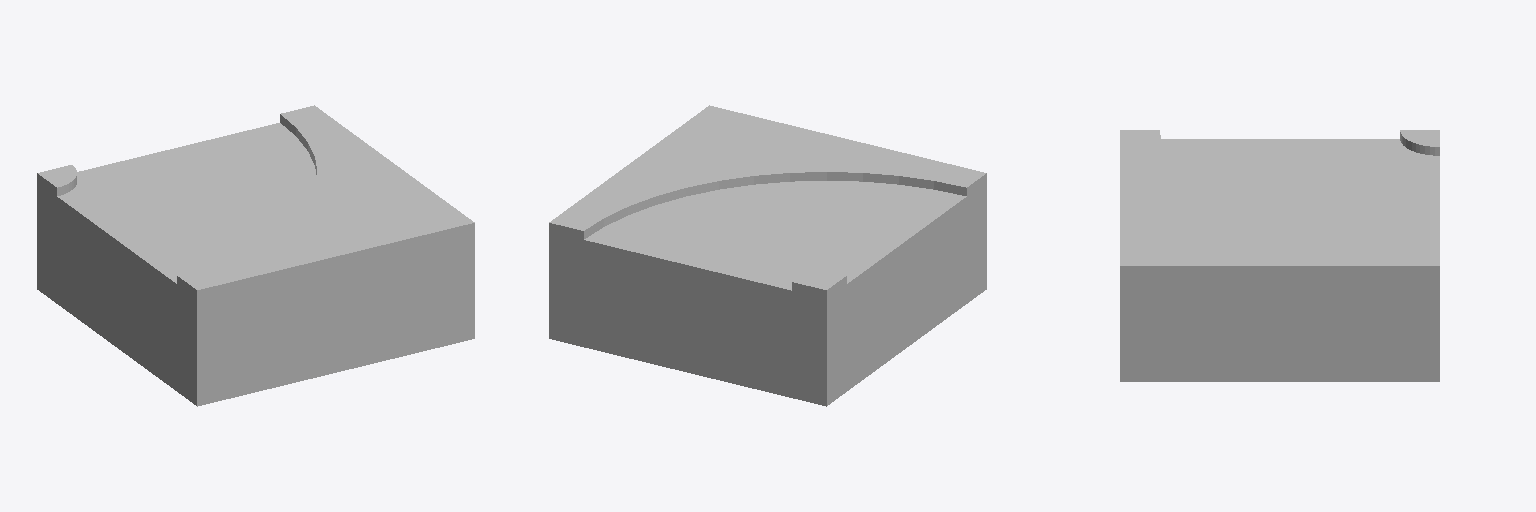
File: tile_094.obj
The picture shows the model from 3 angles: view 1: azimuth 30°, elevation 25°; view 2: azimuth 150°, elevation 25°; view 3: azimuth 270°, elevation 25°; orthographic projection.
Parts seen in each view (by area): view 1: tile_094; view 2: tile_094; view 3: tile_094.
Boxes of the visible parts, x1=… form: tile_094: x1=37, y1=105, x2=474, y2=406; tile_094: x1=549, y1=105, x2=986, y2=406; tile_094: x1=1120, y1=130, x2=1439, y2=381.
Bounding box in the file's own units: 1 × 0.4 × 1.